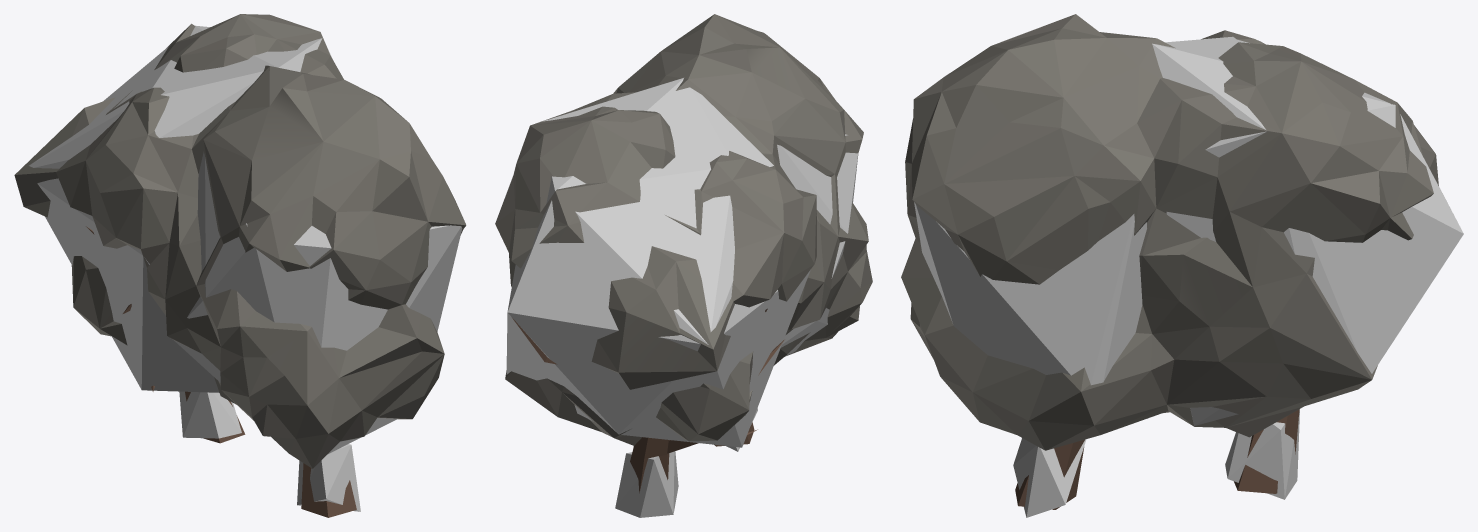
File: SM_Env_Hedge_Shrub_02.fbx
3 views of the same model, side by side, from view 1: azimuth 30°, elevation 25°; view 2: azimuth 150°, elevation 25°; view 3: azimuth 270°, elevation 25° (orthographic). The views are drawn at different scales.
Visible parts, largest first — view 1: SM_Env_Hedge_Shrub_02, SM_Env_Hedge_Shrub_02_ConvexHulls; view 2: SM_Env_Hedge_Shrub_02, SM_Env_Hedge_Shrub_02_ConvexHulls; view 3: SM_Env_Hedge_Shrub_02, SM_Env_Hedge_Shrub_02_ConvexHulls.
Part boxes in pixels (x1,y1,x2,y2): SM_Env_Hedge_Shrub_02: (14,14,466,517); SM_Env_Hedge_Shrub_02_ConvexHulls: (29,25,462,511); SM_Env_Hedge_Shrub_02: (495,14,872,493); SM_Env_Hedge_Shrub_02_ConvexHulls: (506,78,858,517); SM_Env_Hedge_Shrub_02: (901,14,1438,509); SM_Env_Hedge_Shrub_02_ConvexHulls: (914,36,1463,517).
Bounding box in the file's own units: 109 × 173 × 161.
Materials: 2 (1 with a texture image).
